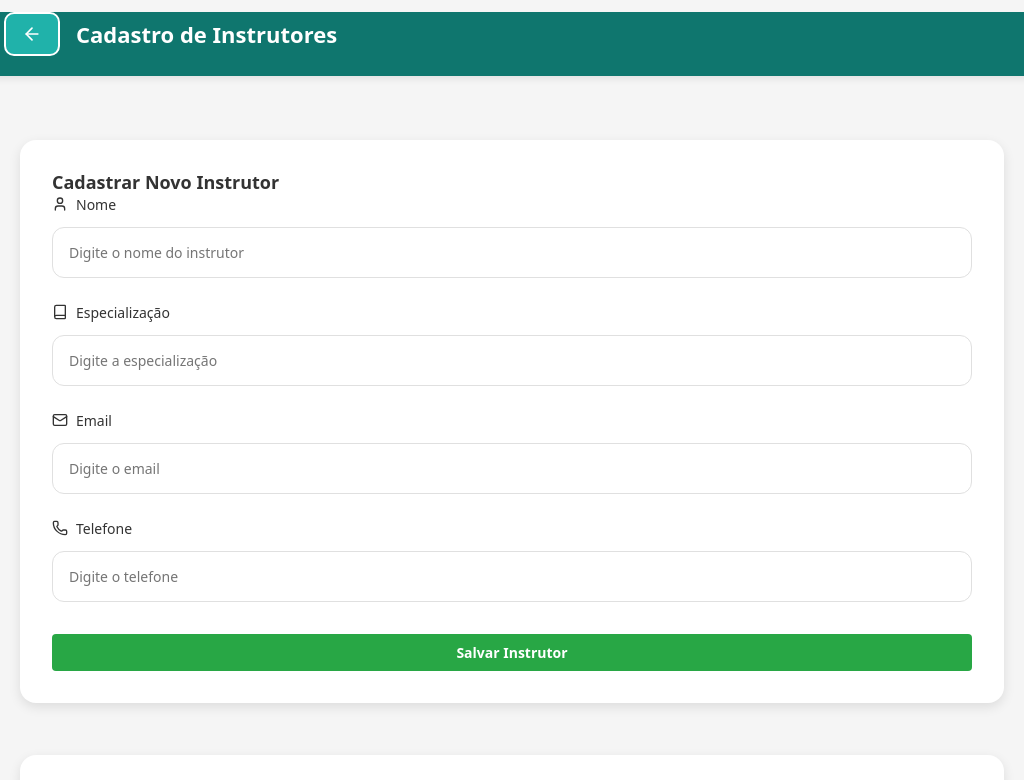
CadastroDeInstrutor › valida campos obrigatórios
The image size is (1024, 780).
Step 1. Click the button "Salvar Instrutor" → click(512, 652), box [52,634,972,671]
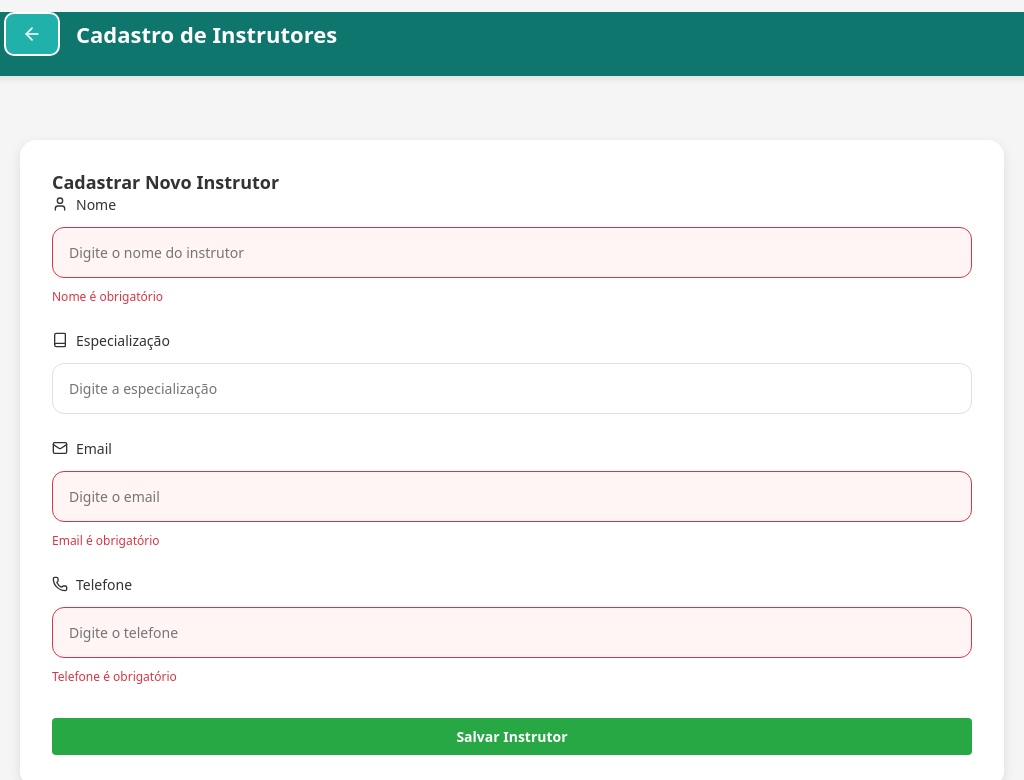
Check: the text "Nome é obrigatório" is shown, box [52,288,163,305]
Check: the text "Email é obrigatório" is shown, box [52,532,160,549]
Check: the text "Telefone é obrigatório" is shown, box [52,668,177,685]
